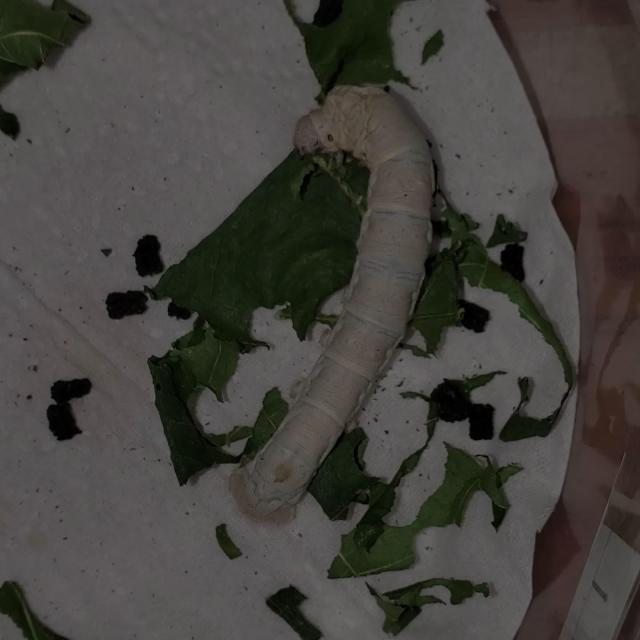Healthy: (208, 53, 439, 544)
